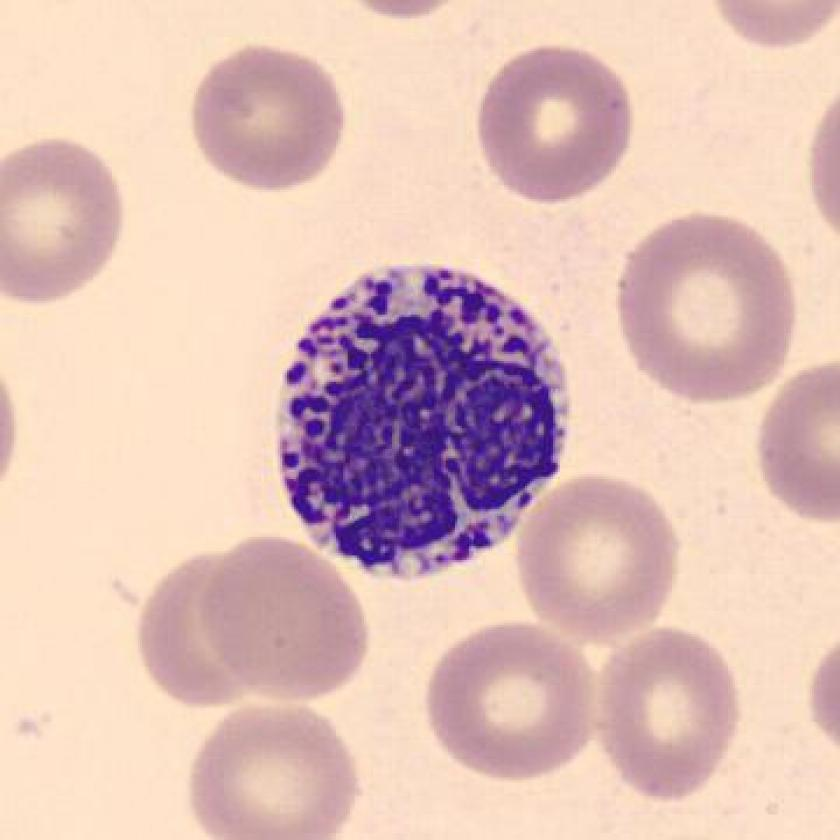basophil: (267, 253, 566, 582)
